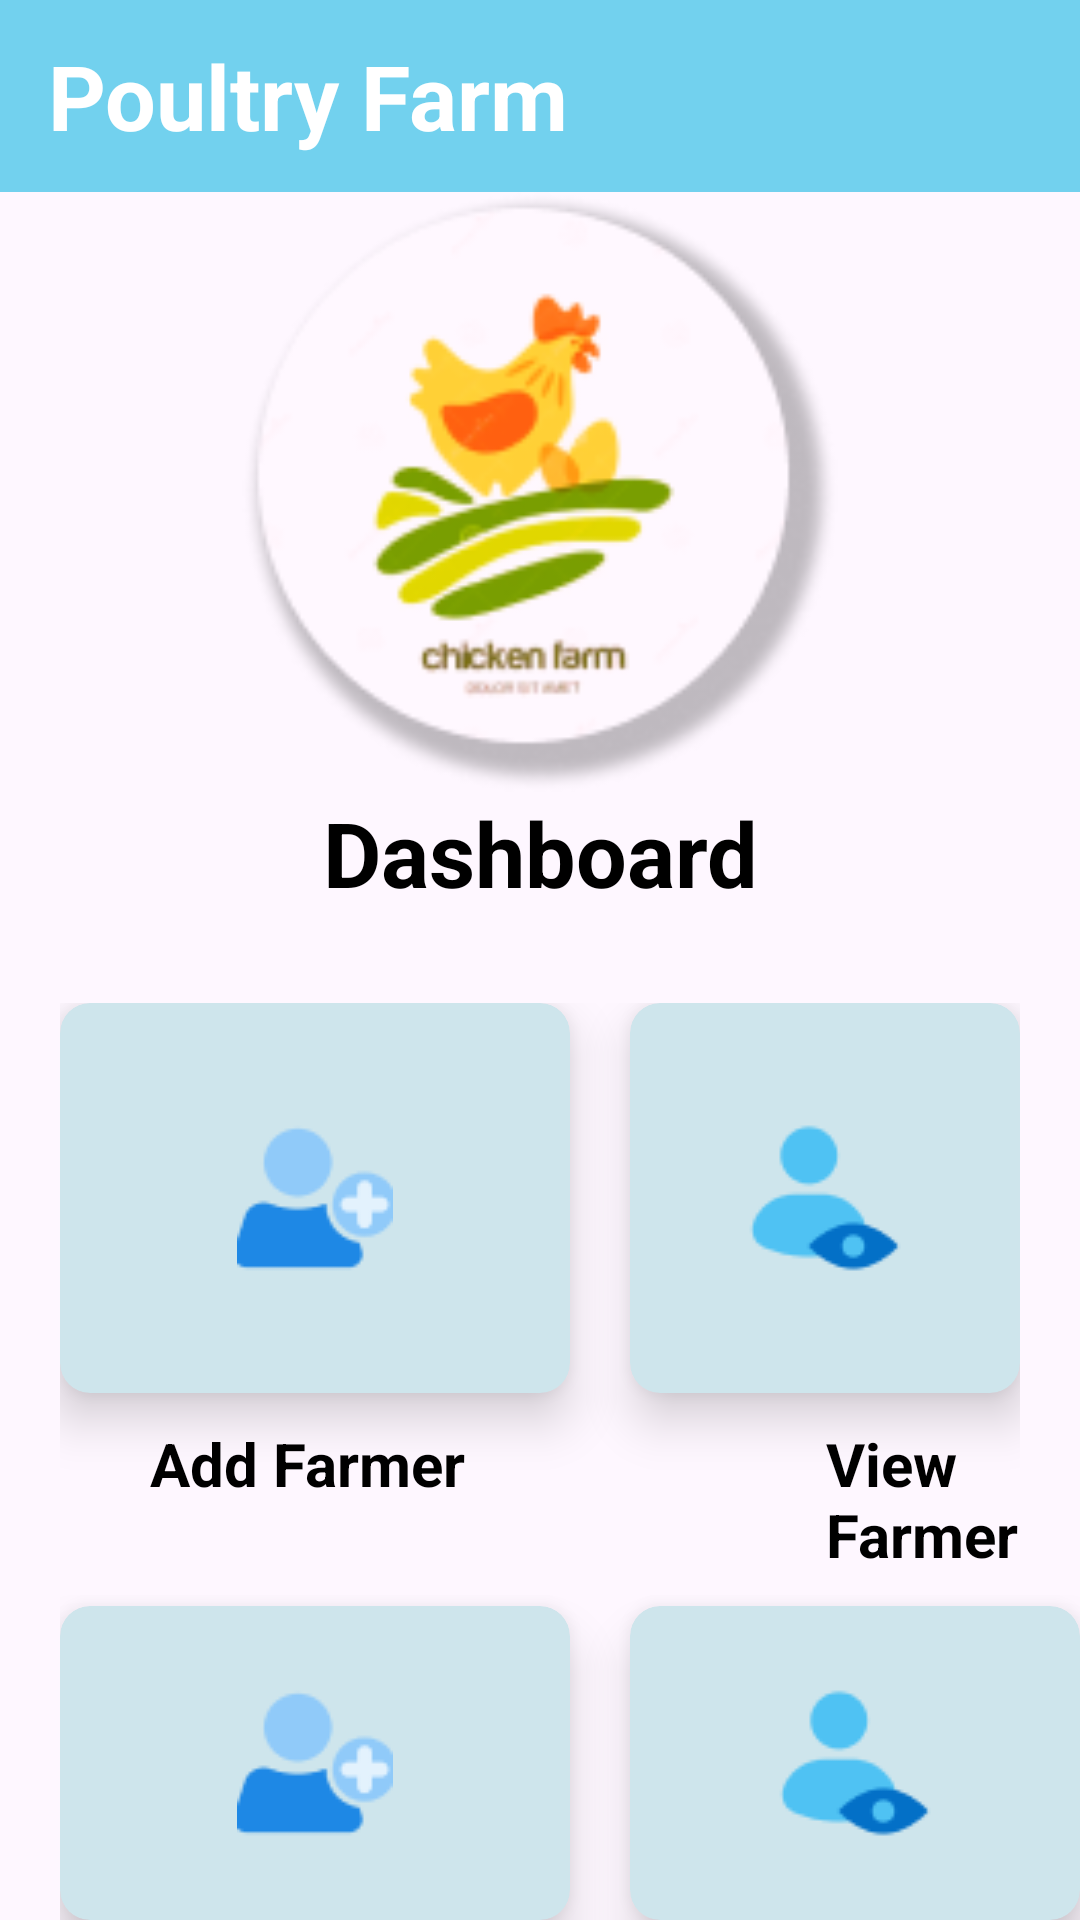

Screen size 1080 x 1920. Icon name, then its box in pixels as (x1, y1, x2, y2):
add farmar: (237, 1128, 393, 1268), (237, 1693, 393, 1833)
